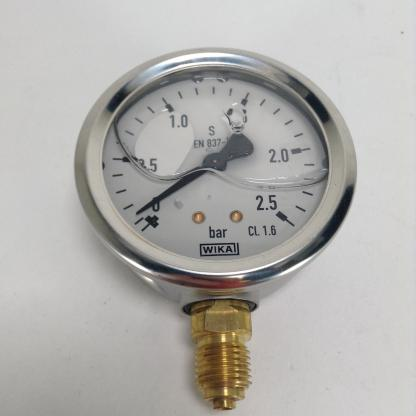needle: (136, 164, 209, 216)
